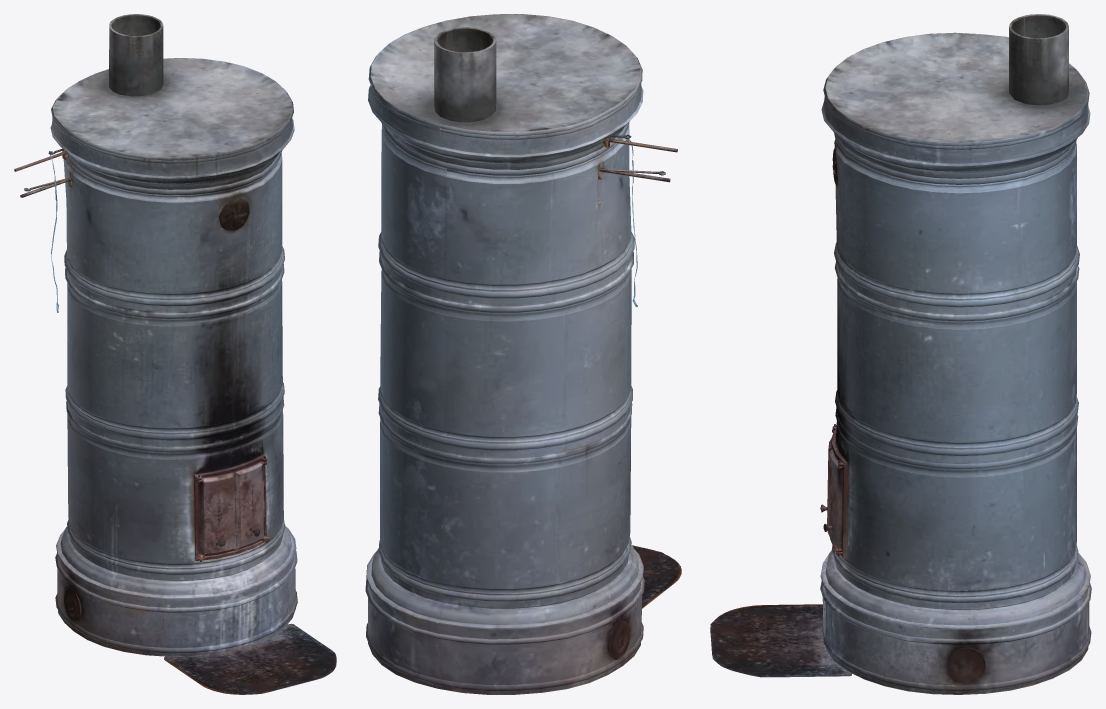
File: scandinavian_masonry_heater.glb
3 views of the same model, side by side, from view 1: azimuth 30°, elevation 25°; view 2: azimuth 150°, elevation 25°; view 3: azimuth 270°, elevation 25° (orthographic). The views are drawn at different scales.
Parts seen in each view (by area): view 1: scandinavian_masonry_heater; view 2: scandinavian_masonry_heater; view 3: scandinavian_masonry_heater.
Part boxes in pixels (x1,y1,x2,y2): scandinavian_masonry_heater: [14, 14, 336, 694]; scandinavian_masonry_heater: [365, 14, 681, 694]; scandinavian_masonry_heater: [710, 14, 1091, 694].
Bounding box in the file's own units: 1.17 × 2.36 × 1.34.
1 material, 1 textured.
